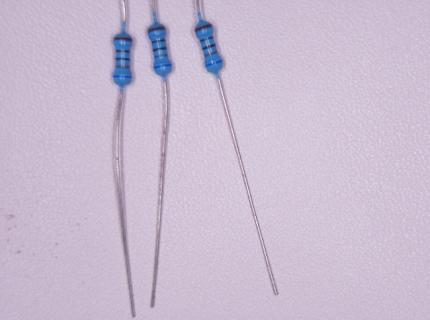Black band: (200, 36, 213, 43), (202, 44, 215, 51), (153, 47, 166, 52), (152, 39, 165, 44), (116, 50, 130, 53), (116, 58, 130, 61)
Blue band: (205, 59, 222, 67), (154, 64, 172, 69), (114, 75, 132, 78)
Brown band: (195, 24, 212, 32), (149, 27, 165, 33), (113, 37, 132, 41)
Grey band: (204, 50, 217, 57), (154, 54, 168, 59), (116, 65, 130, 69)
